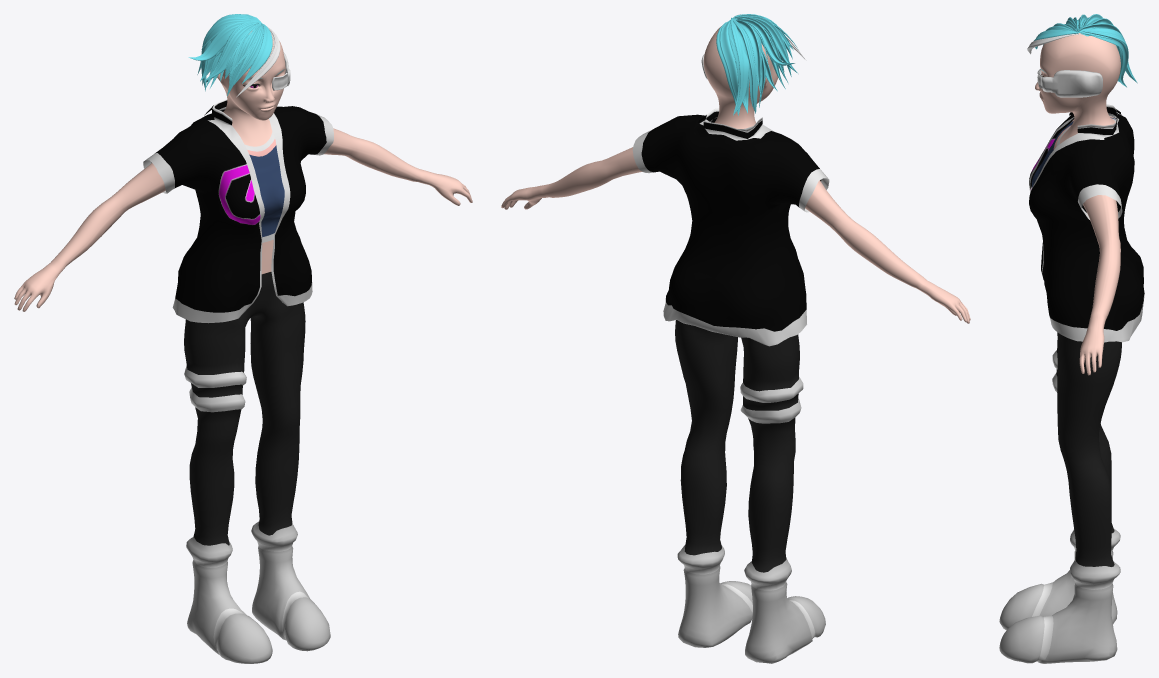
Rendered from AYA.fbx.
3 renders of one model, left to right at view 1: azimuth 30°, elevation 25°; view 2: azimuth 150°, elevation 25°; view 3: azimuth 270°, elevation 25°, orthographic. The views are drawn at different scales.
Parts seen in each view (by area): view 1: Retopo, Plane.008, NurbsPath; view 2: Retopo, Plane.008, NurbsPath; view 3: Retopo, Plane.008, NurbsPath, Plane.
Part boxes in pixels (x1,y1,x2,y2): Retopo: (14,30,472,663); Plane.008: (143,99,333,323); NurbsPath: (188,14,280,97); Retopo: (501,26,970,663); Plane.008: (632,108,829,346); NurbsPath: (716,14,805,115); Retopo: (999,33,1121,663); Plane.008: (1029,104,1144,342); NurbsPath: (1027,14,1137,87); Plane: (1037,69,1102,97).
Size of the model in its own units: 2342 by 3016 by 640.
Materials: 13 (7 with a texture image).
